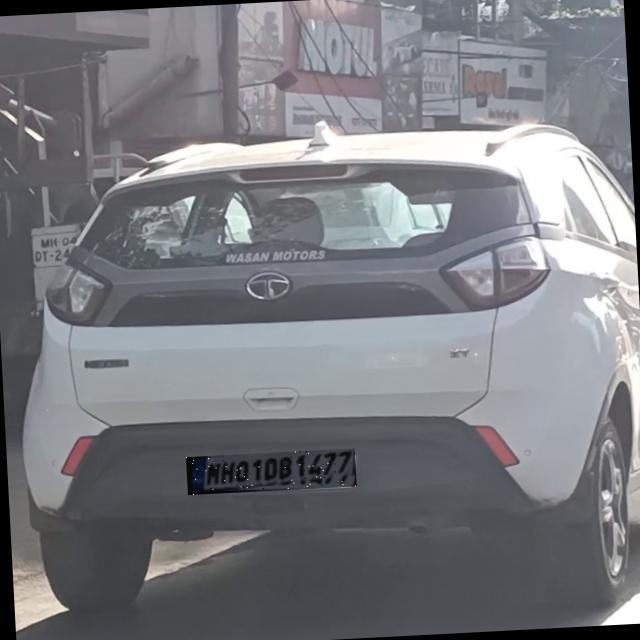Plate: (187, 450, 358, 497)
